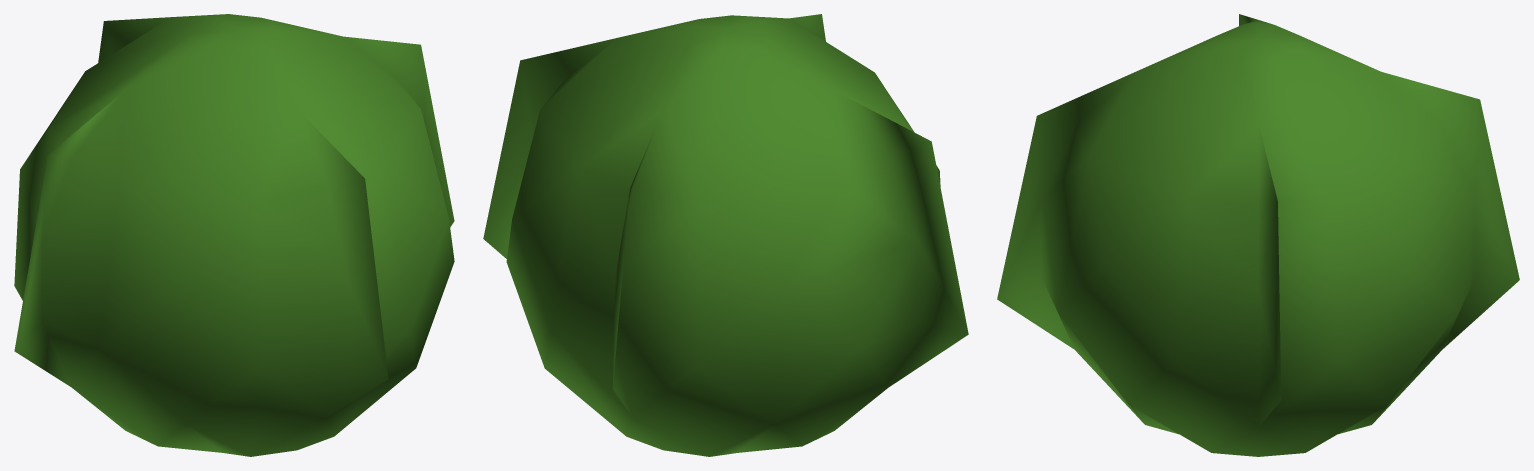
File: bombCluster.fbx
3 renders of one model, left to right at view 1: azimuth 30°, elevation 25°; view 2: azimuth 150°, elevation 25°; view 3: azimuth 270°, elevation 25°, orthographic. The views are drawn at different scales.
Parts seen in each view (by area): view 1: Cluster_particle; view 2: Cluster_particle; view 3: Cluster_particle.
Part boxes in pixels (x1,y1,x2,y2): Cluster_particle: (14,14,454,456); Cluster_particle: (483,14,968,456); Cluster_particle: (997,14,1519,456).
Size of the model in its own units: 0.4729 by 0.4 by 0.4729.
